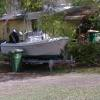Boat: (1, 28, 69, 67)
